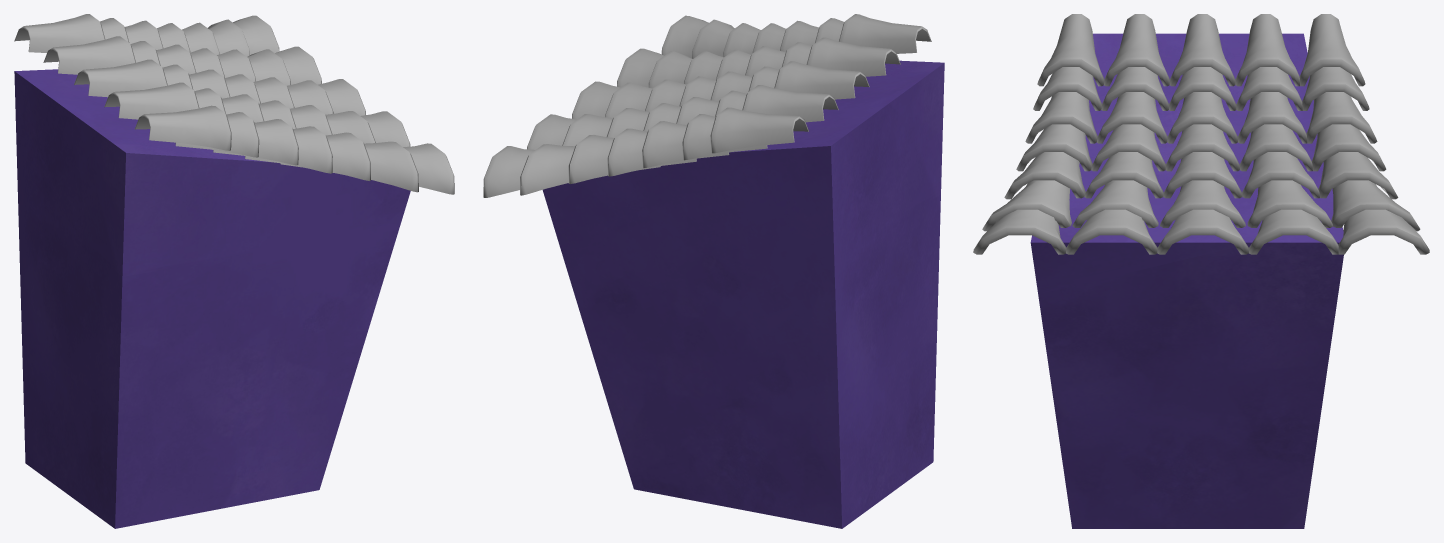
The model's file is bat4.fbx.
3 views of the same model, side by side, from view 1: azimuth 30°, elevation 25°; view 2: azimuth 150°, elevation 25°; view 3: azimuth 270°, elevation 25° (orthographic). The views are drawn at different scales.
Parts seen in each view (by area): view 1: group35; view 2: group35; view 3: group35.
Part boxes in pixels (left/top/right/bottom): group35: left=14, top=14, right=454, bottom=528; group35: left=483, top=14, right=944, bottom=528; group35: left=973, top=14, right=1429, bottom=528.
Size of the model in its own units: 7.56 by 10.36 by 10.
